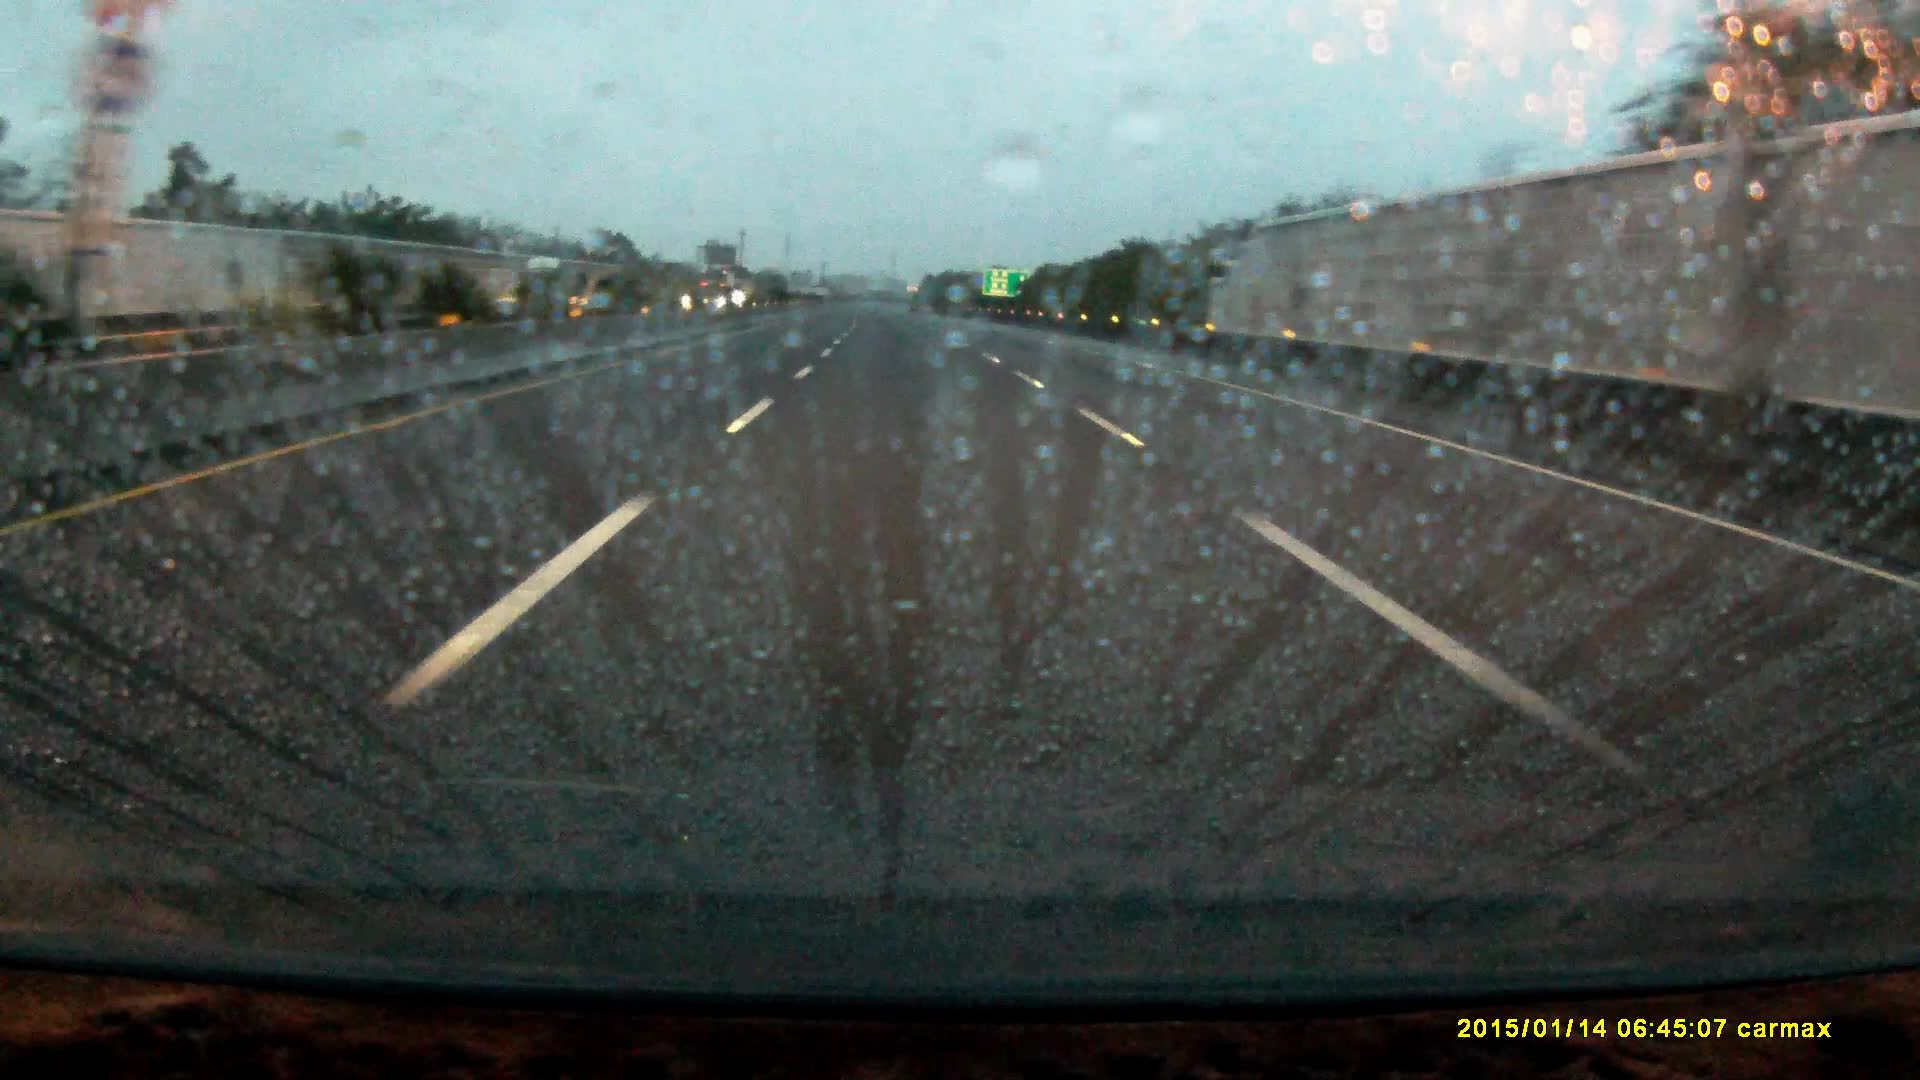vehicle: (521, 256, 596, 311), (699, 274, 738, 309)
